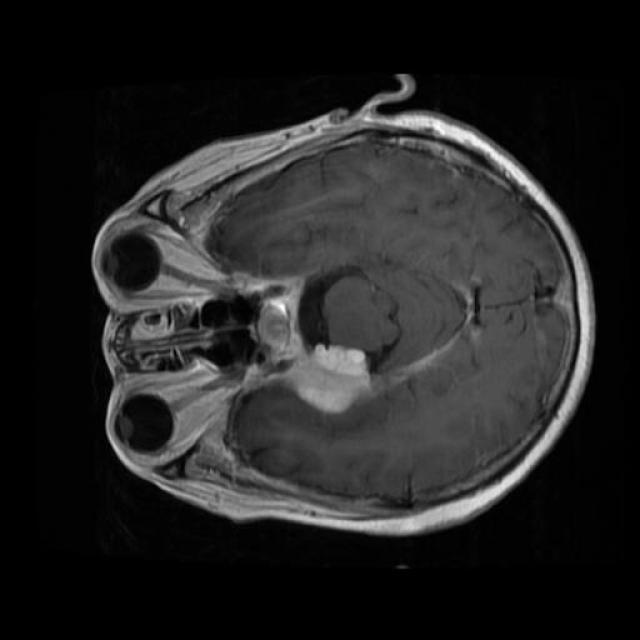Meningioma: (268, 345, 370, 413)
